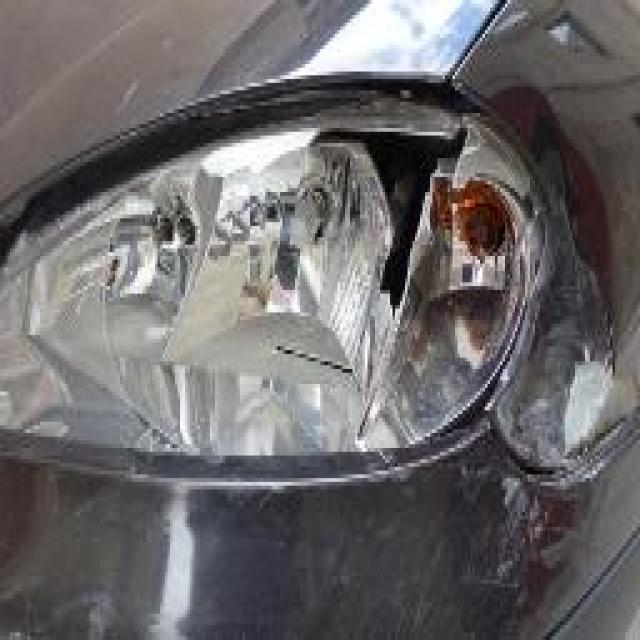Fender: (483, 213, 638, 475)
Light: (42, 87, 562, 468)
